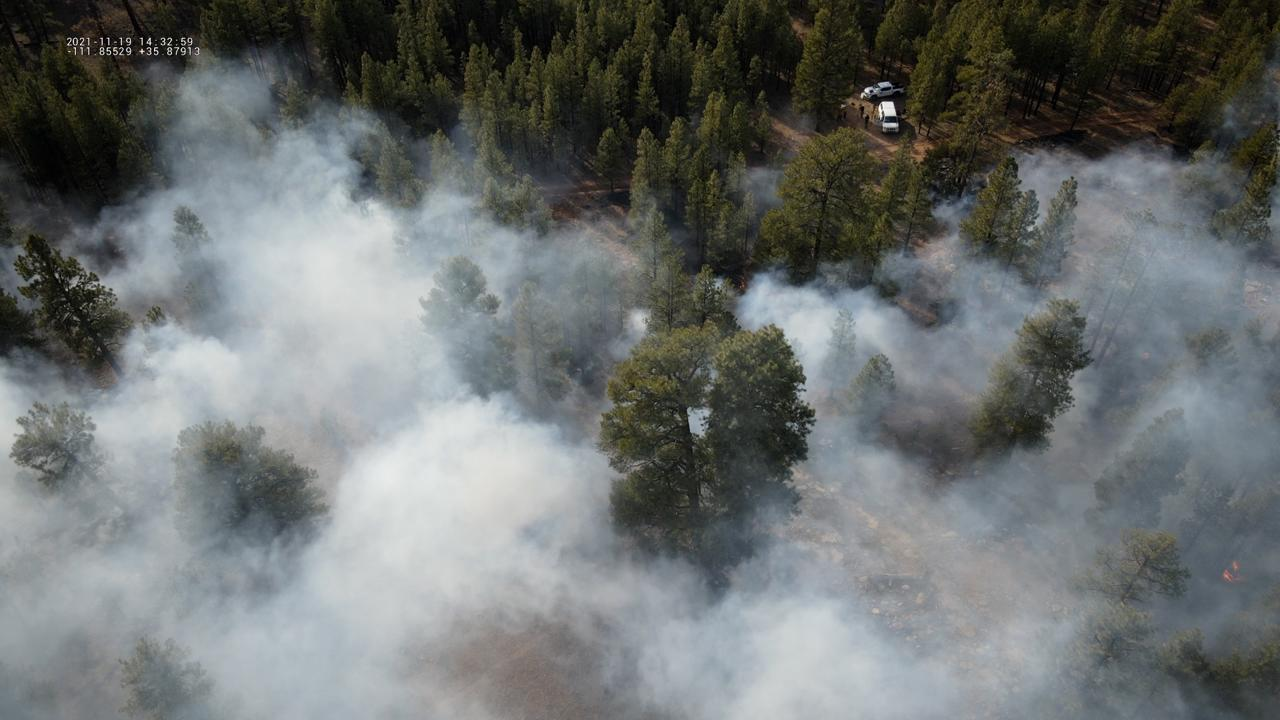fire: (1222, 560, 1240, 585)
smoke: (0, 44, 1280, 720)
